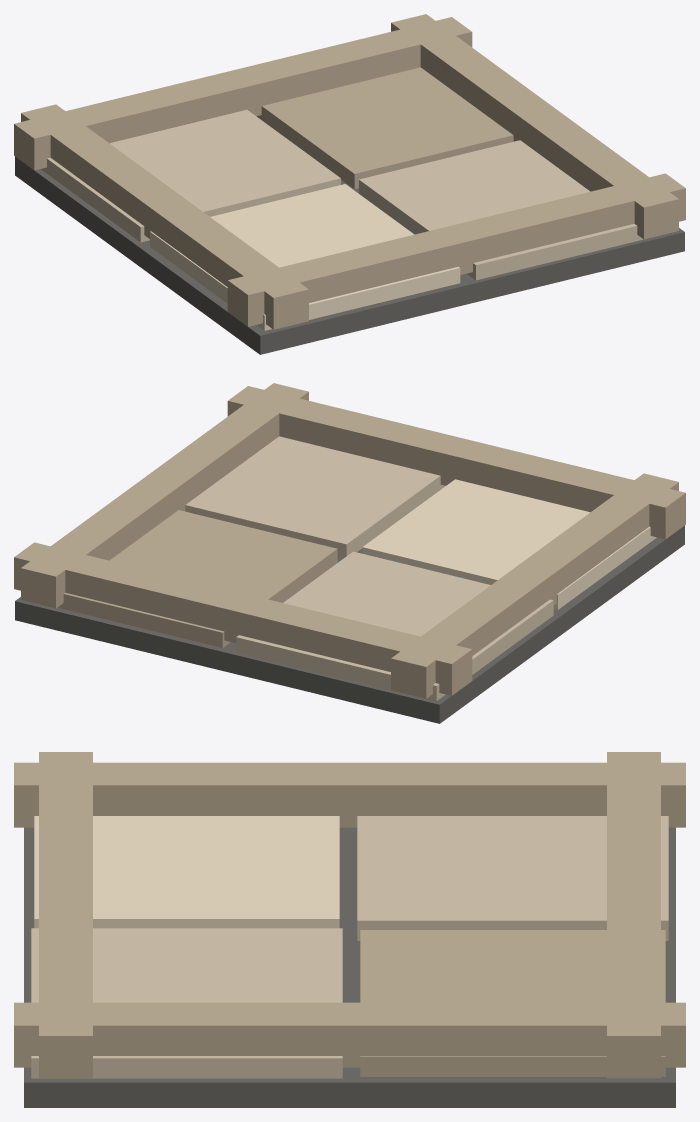
Rendered from vn_path_slab.glb.
3 renders of one model, top to bottom at view 1: azimuth 30°, elevation 25°; view 2: azimuth 150°, elevation 25°; view 3: azimuth 270°, elevation 25°, orthographic. The views are drawn at different scales.
Parts seen in each view (by area): view 1: Bed, EdgeNZ_0, EdgePZ_0, EdgeNX_0, EdgePX_0; view 2: Bed, EdgeNZ_0, EdgePZ_0, EdgePX_0, EdgeNX_0; view 3: Bed, EdgePX_0, EdgeNX_0, EdgeNZ_0, EdgePZ_0.
Boxes of the visible parts, x1,y1,x2,y2 form: Bed: (15,67,684,354); EdgeNZ_0: (14,17,472,170); EdgePZ_0: (227,173,685,326); EdgeNX_0: (21,104,308,329); EdgePX_0: (391,14,678,239); Bed: (15,436,684,723); EdgeNZ_0: (14,542,472,695); EdgePZ_0: (227,386,685,539); EdgePX_0: (21,383,308,608); EdgeNX_0: (391,473,678,698); Bed: (24,816,675,1107); EdgePX_0: (14,1002,685,1067); EdgeNX_0: (14,762,685,827); EdgeNZ_0: (607,752,660,1078); EdgePZ_0: (39,752,92,1078).
Bounding box in the file's own units: 0.72 × 0.09 × 0.72.
